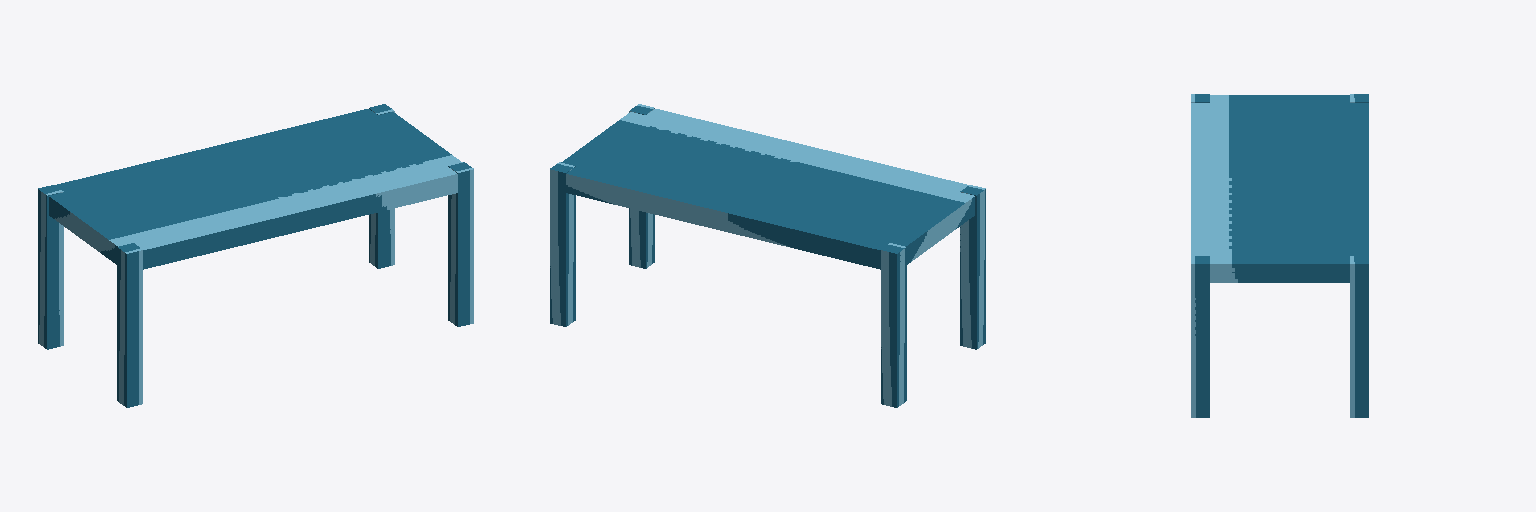
3 renders of one model, left to right at view 1: azimuth 30°, elevation 25°; view 2: azimuth 150°, elevation 25°; view 3: azimuth 270°, elevation 25°, orthographic.
Visible parts, largest first — view 1: tabletop, leg1, leg3, leg2, leg4; view 2: tabletop, leg2, leg4, leg1, leg3; view 3: tabletop, leg4, leg3.
Part boxes in pixels (x1,y1,x2,y2): tabletop: (49,109,462,269); leg1: (117,243,142,407); leg3: (448,162,473,326); leg2: (38,185,63,349); leg4: (369,104,394,268); tabletop: (561,109,974,269); leg2: (881,243,906,407); leg4: (550,162,575,326); leg1: (960,185,985,349); leg3: (629,104,654,268); tabletop: (1191,95,1368,282); leg4: (1350,256,1368,417); leg3: (1191,256,1209,417).
Size of the model in its own units: 12.6 by 5.34 by 5.6.
Materials: 5 (1 with a texture image).